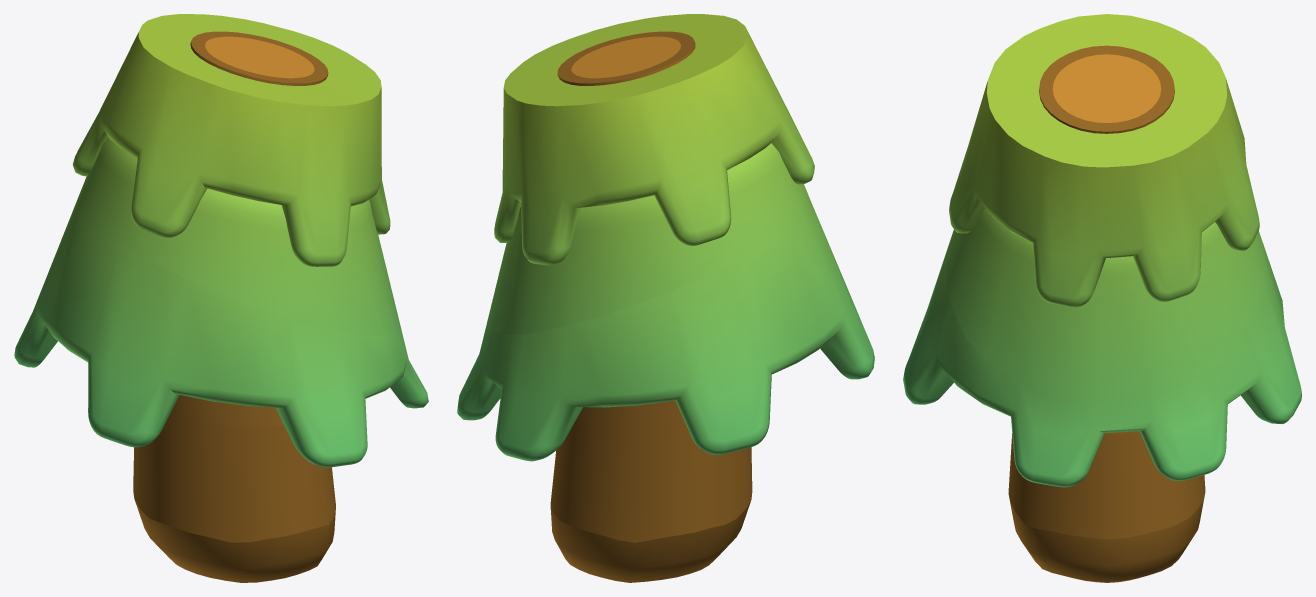
File: tree2 60%.fbx
3 views of the same model, side by side, from view 1: azimuth 30°, elevation 25°; view 2: azimuth 150°, elevation 25°; view 3: azimuth 270°, elevation 25° (orthographic). The views are drawn at different scales.
Parts seen in each view (by area): view 1: Cylinder.021; view 2: Cylinder.021; view 3: Cylinder.021.
Part boxes in pixels (box(x1,y1,x2,y2)): Cylinder.021: box(14, 14, 428, 582); Cylinder.021: box(457, 14, 874, 582); Cylinder.021: box(903, 14, 1301, 582).
Bounding box in the file's own units: 79.53 × 116 × 83.63.
